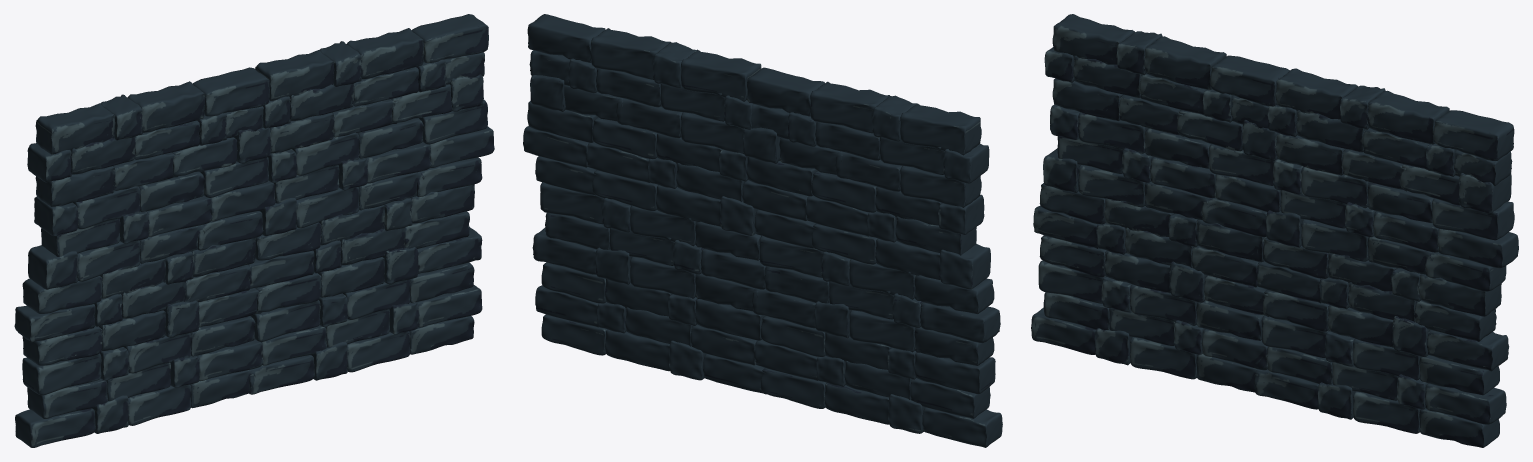
Rendered from Wall.glb.
3 views of the same model, side by side, from view 1: azimuth 30°, elevation 25°; view 2: azimuth 150°, elevation 25°; view 3: azimuth 330°, elevation 25° (orthographic).
Parts seen in each view (by area): view 1: Object003; view 2: Object003; view 3: Object003.
Boxes of the visible parts, left/top/right/bottom form: Object003: left=14, top=14, right=494, bottom=447; Object003: left=523, top=14, right=1002, bottom=447; Object003: left=1031, top=14, right=1518, bottom=447.
Size of the model in its own units: 3.47 by 2.27 by 0.2821.
Materials: 1 (1 with a texture image).
